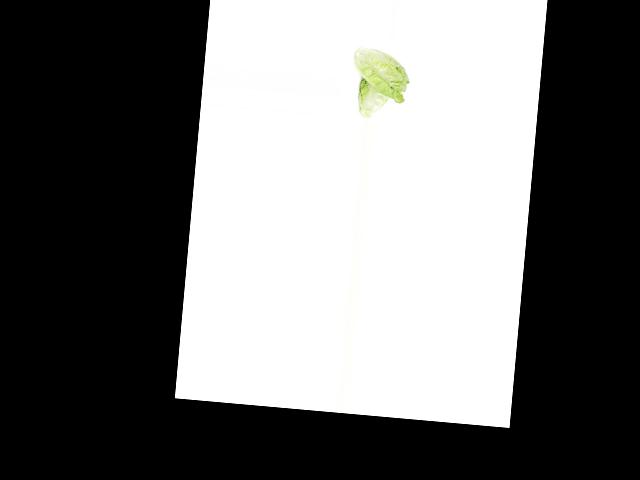lettuce: (353, 77, 391, 121)
